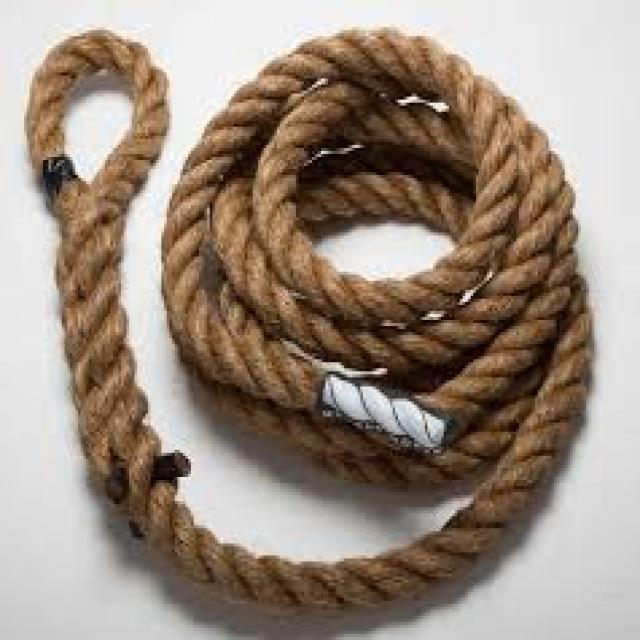rope: (29, 29, 593, 608)
